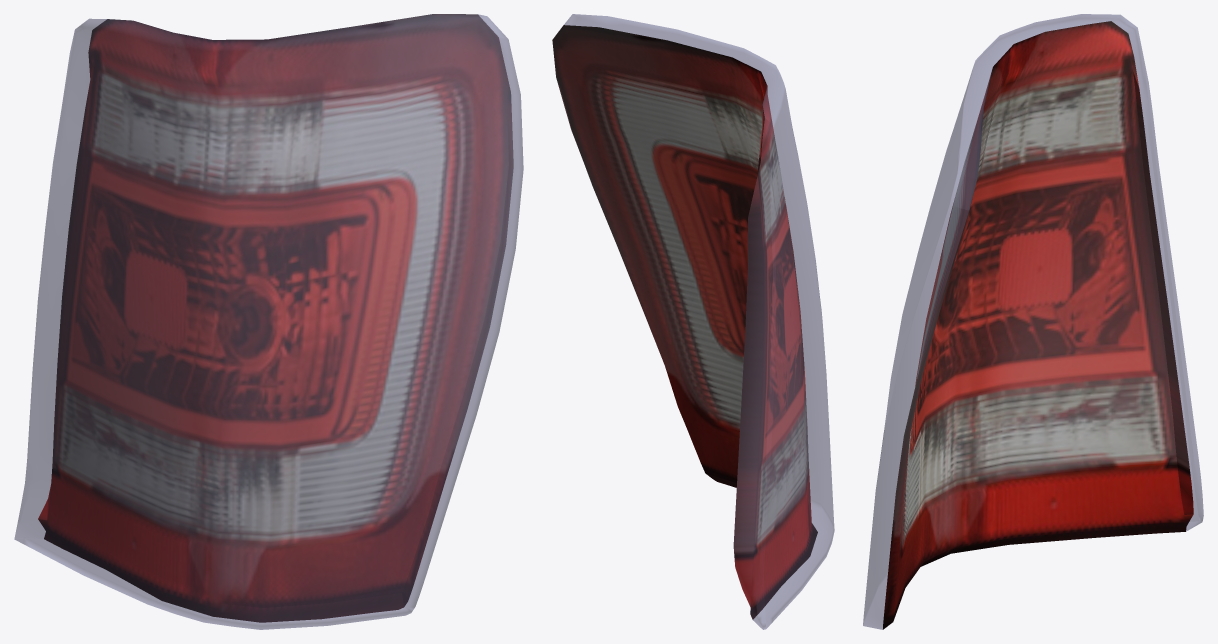
3 views of the same model, side by side, from view 1: azimuth 30°, elevation 25°; view 2: azimuth 150°, elevation 25°; view 3: azimuth 270°, elevation 25° (orthographic). The views are drawn at different scales.
Parts seen in each view (by area): view 1: P712_541C_R_1_DTaSI_P712_541C_R, P712_541C_R_P712_541C_R_2_N; view 2: P712_541C_R_P712_541C_R_2_N, P712_541C_R_1_DTaSI_P712_541C_R; view 3: P712_541C_R_P712_541C_R_2_N, P712_541C_R_1_DTaSI_P712_541C_R.
Boxes of the visible parts, left/top/right/bottom form: P712_541C_R_1_DTaSI_P712_541C_R: left=14, top=14, right=523, bottom=629; P712_541C_R_P712_541C_R_2_N: left=38, top=14, right=513, bottom=622; P712_541C_R_P712_541C_R_2_N: left=552, top=25, right=817, bottom=619; P712_541C_R_1_DTaSI_P712_541C_R: left=564, top=14, right=834, bottom=629; P712_541C_R_P712_541C_R_2_N: left=883, top=21, right=1193, bottom=629; P712_541C_R_1_DTaSI_P712_541C_R: left=863, top=14, right=1203, bottom=629.
Size of the model in its own units: 26.37 by 37.81 by 21.88.
